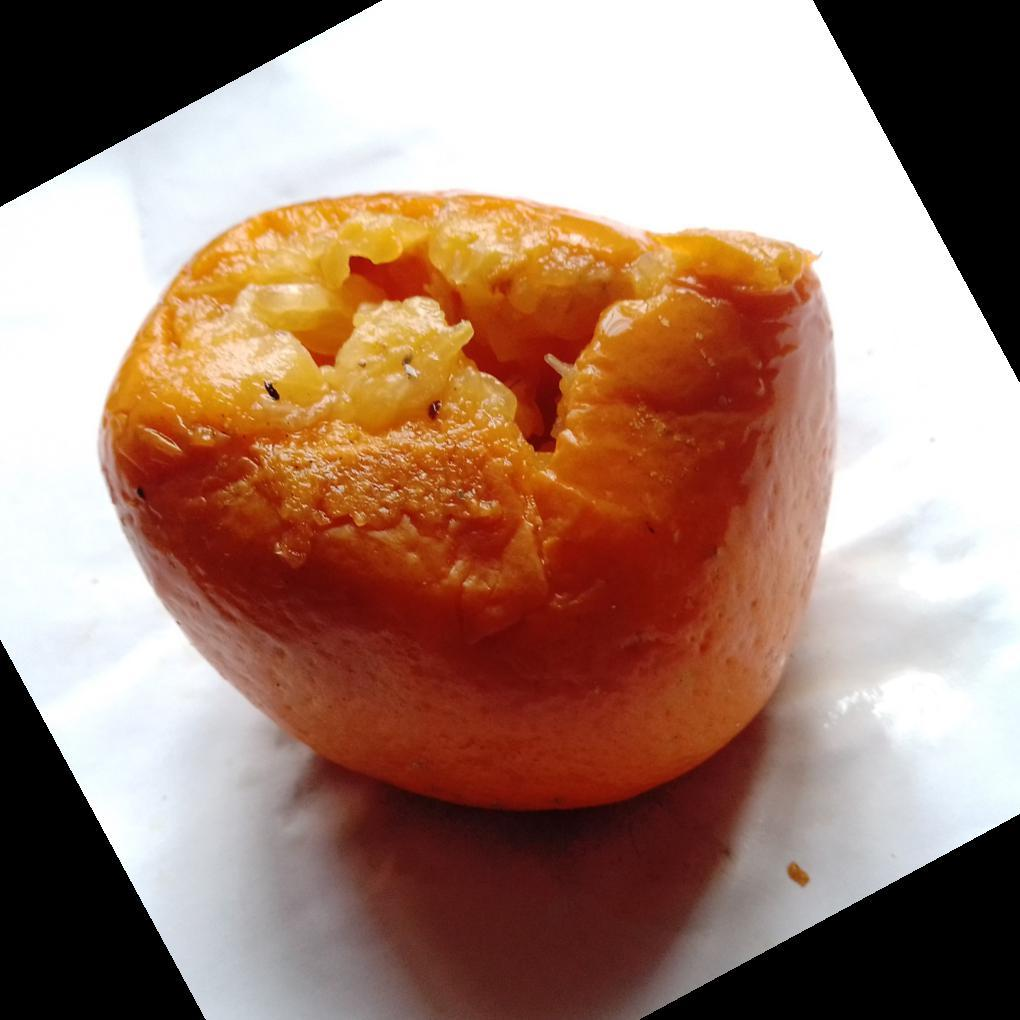FreshOrange: (98, 191, 839, 817)
